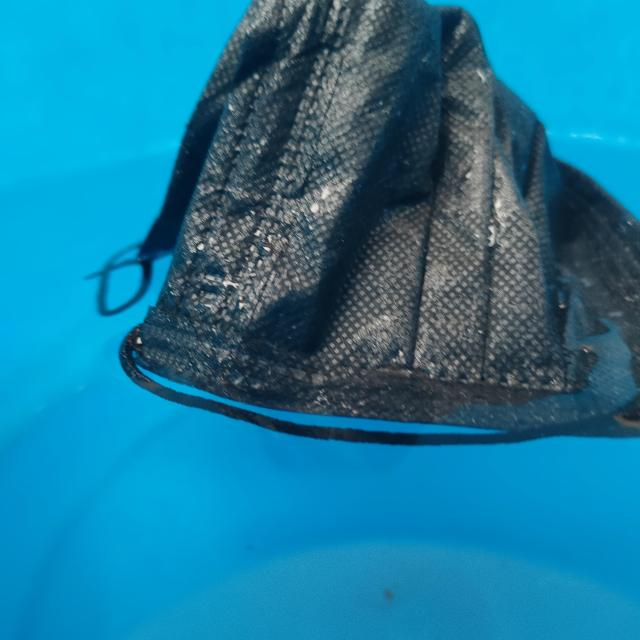litter: (97, 0, 640, 441)
